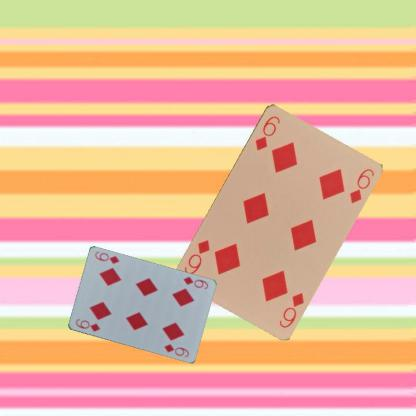6d: (276, 289, 306, 329), (252, 113, 282, 152), (180, 274, 209, 290), (73, 316, 101, 332)
